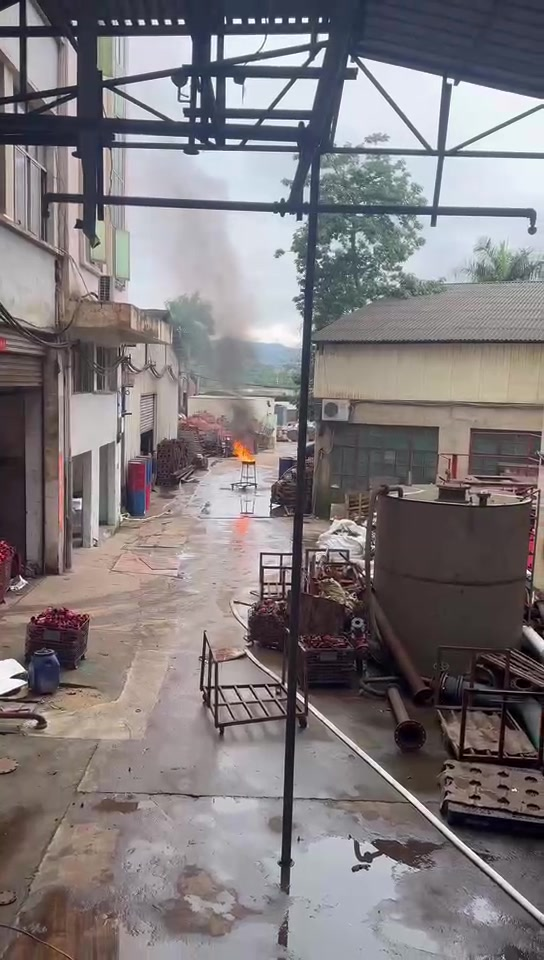fire: (232, 440, 254, 461)
